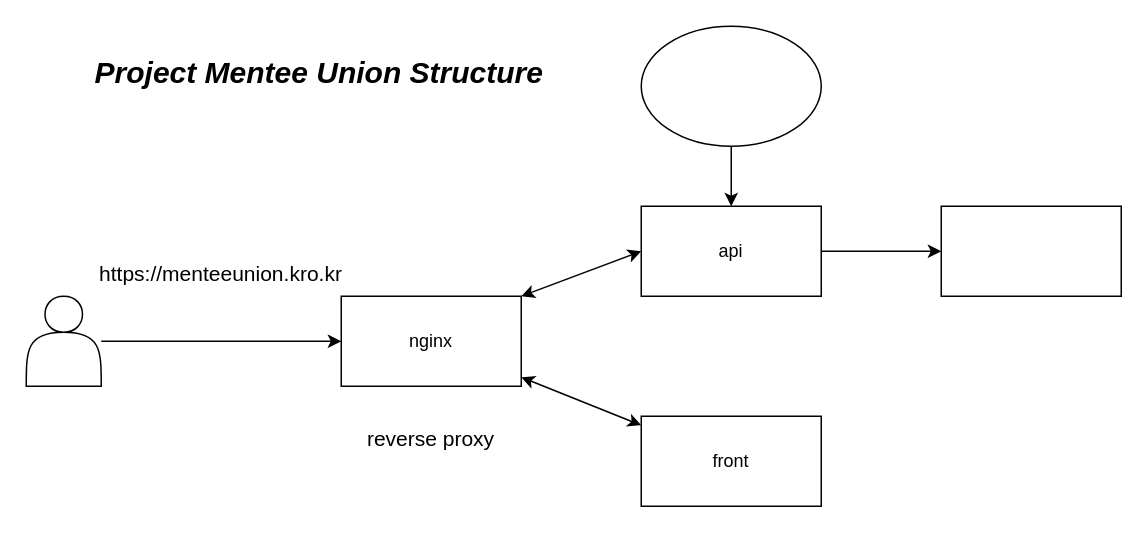
Image size: 1148x533. Some labels were removed from this diagram. The centre of each missing label's shape, as x and y in pixels:
"db" belongs at (x=1030, y=250).
"sentry" belongs at (x=730, y=85).
